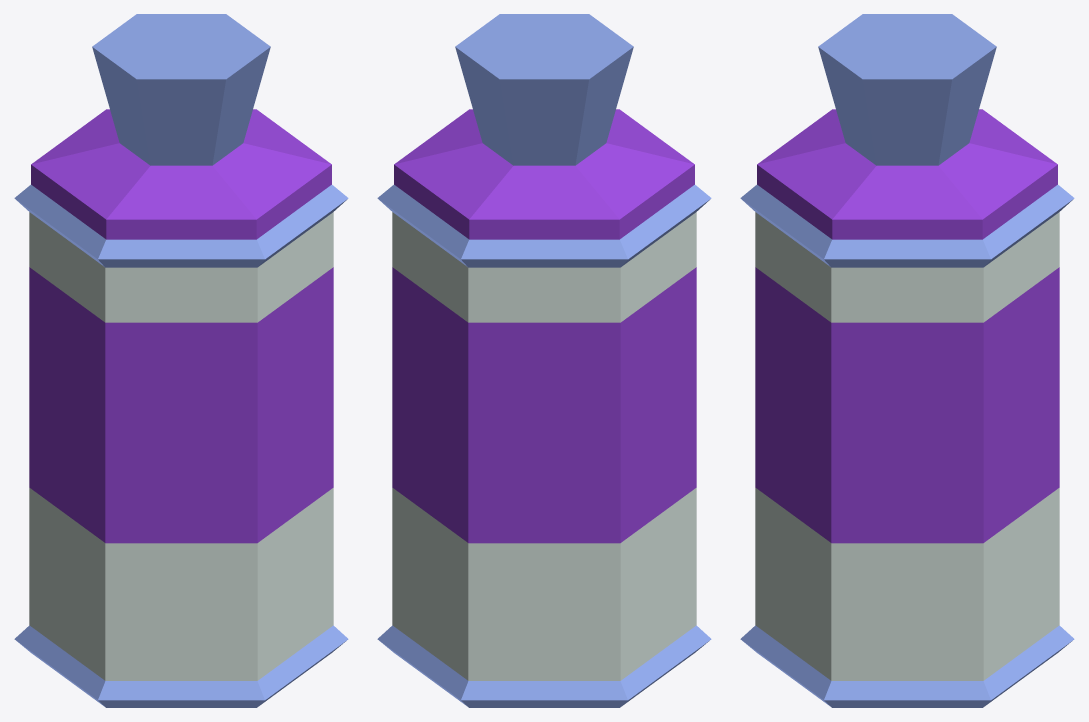
Rendered from LATINHA.fbx.
3 views of the same model, side by side, from view 1: azimuth 30°, elevation 25°; view 2: azimuth 150°, elevation 25°; view 3: azimuth 270°, elevation 25° (orthographic).
Parts seen in each view (by area): view 1: latinha; view 2: latinha; view 3: latinha.
Part boxes in pixels (left/top/right/bottom): latinha: left=14, top=14, right=348, bottom=707; latinha: left=377, top=14, right=711, bottom=707; latinha: left=740, top=14, right=1074, bottom=707.
Size of the model in its own units: 21.62 by 49.92 by 24.96.
